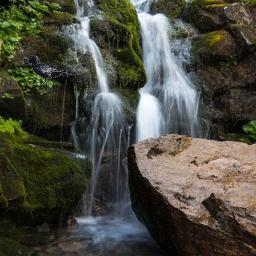Crow: (23, 55, 72, 85)
